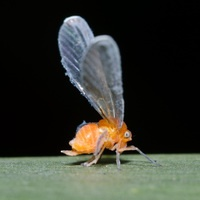insect: (58, 16, 158, 167)
